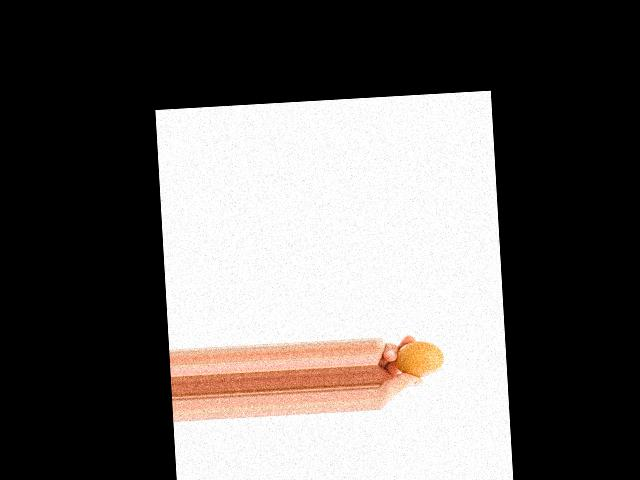egg: (395, 339, 444, 378)
